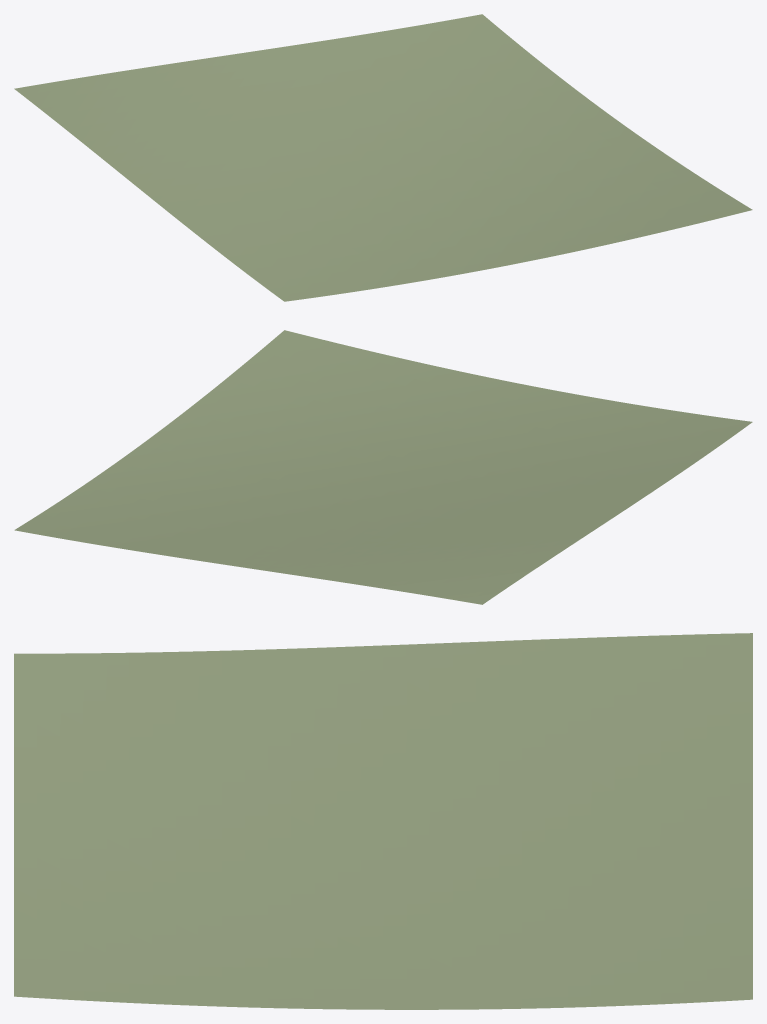
Rendered from alpine-15-3.glb.
3 views of the same model, one above another, from view 1: azimuth 30°, elevation 25°; view 2: azimuth 150°, elevation 25°; view 3: azimuth 270°, elevation 25° (orthographic). The views are drawn at different scales.
Parts seen in each view (by area): view 1: alpine-15-3; view 2: alpine-15-3; view 3: alpine-15-3.
Part boxes in pixels (left/top/right/bottom): alpine-15-3: left=14, top=14, right=752, bottom=301; alpine-15-3: left=14, top=330, right=752, bottom=604; alpine-15-3: left=14, top=633, right=752, bottom=1009.
Bounding box in the file's own units: 256 × 24.65 × 256.
